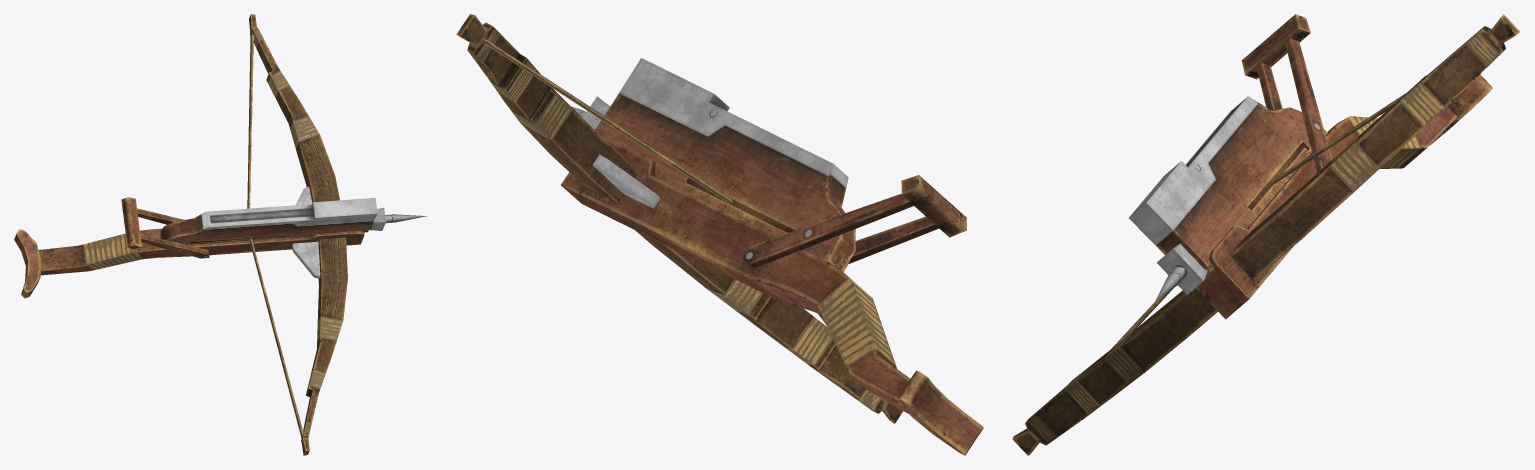
The model's file is weapon-copperweapons.glb.
The picture shows the model from 3 angles, left to right: view 1: azimuth 30°, elevation 25°; view 2: azimuth 150°, elevation 25°; view 3: azimuth 270°, elevation 25°; orthographic projection. The views are drawn at different scales.
Size of the model in its own units: 0.9158 by 0.8389 by 0.7521.
1 material, 1 textured.
